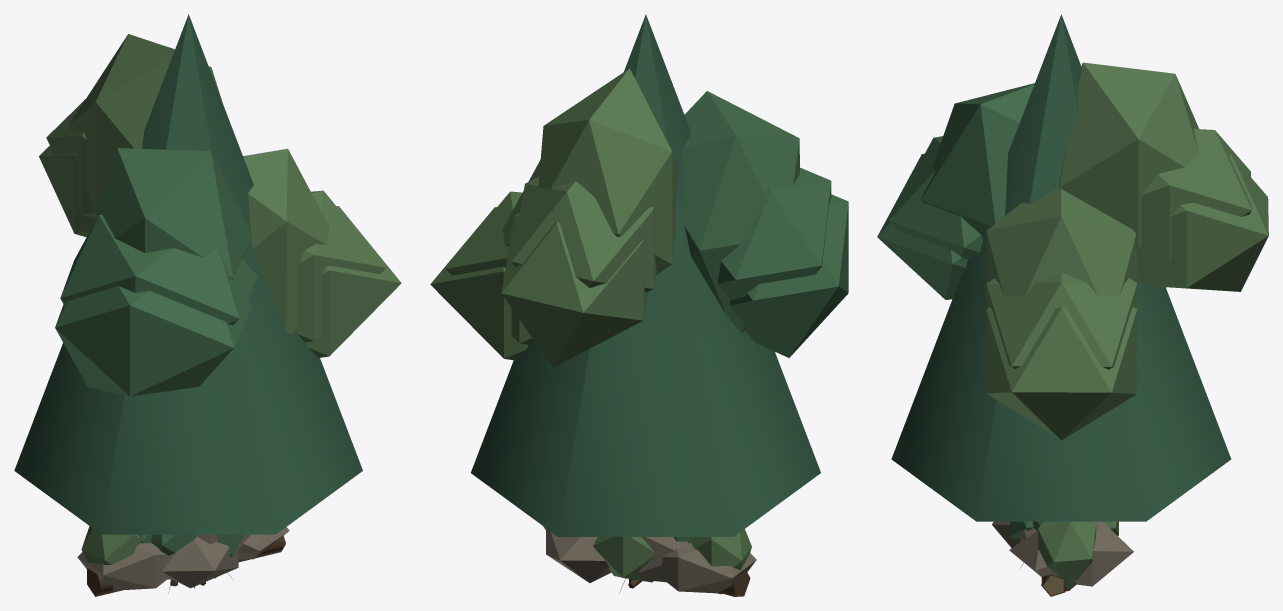
The model's file is far.glb.
3 renders of one model, left to right at view 1: azimuth 30°, elevation 25°; view 2: azimuth 150°, elevation 25°; view 3: azimuth 270°, elevation 25°, orthographic. The views are drawn at different scales.
Parts seen in each view (by area): view 1: pine-tiered__far, beech-upright__far, oak-spreading__far, birch-open__far, outcrop-layered__far, hedge-fragment__far, hazel-shrub__far, fallen-log__far; view 2: pine-tiered__far, beech-upright__far, oak-spreading__far, birch-open__far, outcrop-layered__far, hedge-fragment__far, hazel-shrub__far, boulder-rounded__far; view 3: pine-tiered__far, beech-upright__far, oak-spreading__far, birch-open__far, hedge-fragment__far, outcrop-layered__far.
Part boxes in pixels (box(x1,y1,x2,y2)): pine-tiered__far: box(14, 14, 362, 534); beech-upright__far: box(68, 34, 329, 334); oak-spreading__far: box(39, 146, 401, 396); birch-open__far: box(46, 99, 386, 342); outcrop-layered__far: box(77, 527, 289, 590); hedge-fragment__far: box(81, 526, 152, 571); hazel-shrub__far: box(151, 534, 244, 586); fallen-log__far: box(87, 535, 285, 596); pine-tiered__far: box(471, 14, 820, 536); beech-upright__far: box(502, 68, 799, 333); oak-spreading__far: box(430, 194, 848, 581); birch-open__far: box(446, 167, 831, 344); outcrop-layered__far: box(546, 528, 756, 593); hedge-fragment__far: box(543, 526, 751, 594); hazel-shrub__far: box(593, 537, 654, 582); boulder-rounded__far: box(637, 537, 687, 582); pine-tiered__far: box(891, 14, 1231, 521); beech-upright__far: box(920, 62, 1198, 296); oak-spreading__far: box(877, 153, 1268, 440); birch-open__far: box(888, 128, 1251, 369); hedge-fragment__far: box(1032, 521, 1096, 591); outcrop-layered__far: box(992, 521, 1133, 586).
Size of the model in its own units: 6.93 by 10.5 by 6.86.
